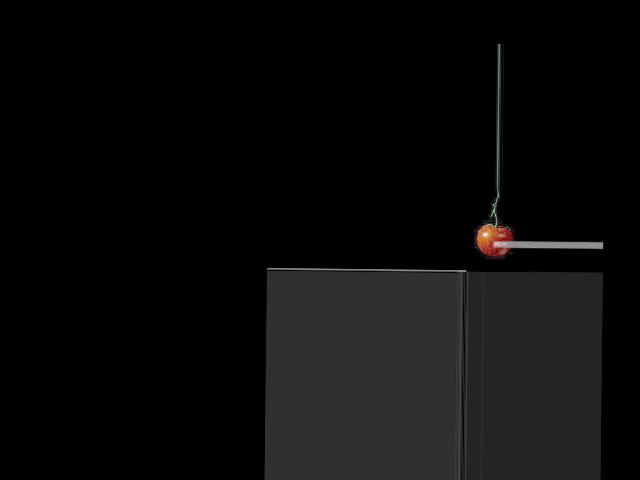tomato: (477, 225, 512, 255)
